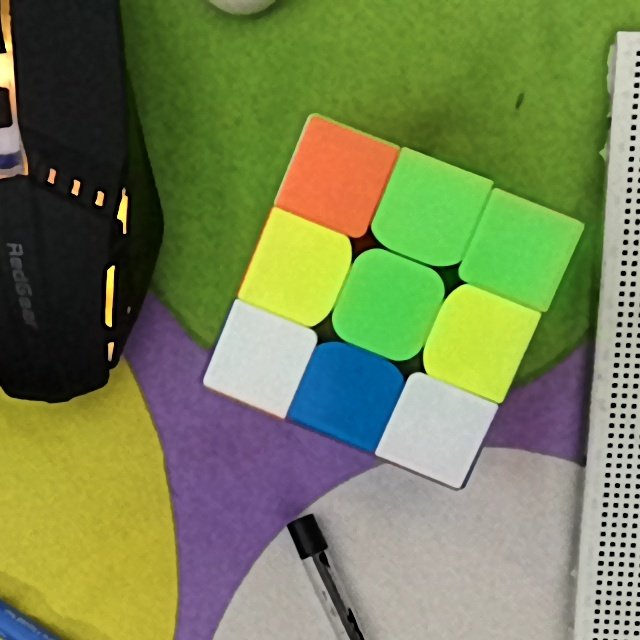tile: (393, 171, 466, 246), (300, 140, 372, 211), (482, 217, 556, 286), (314, 359, 383, 428), (353, 275, 423, 341), (445, 306, 513, 373), (269, 237, 332, 309), (403, 399, 469, 462), (228, 328, 289, 393)
